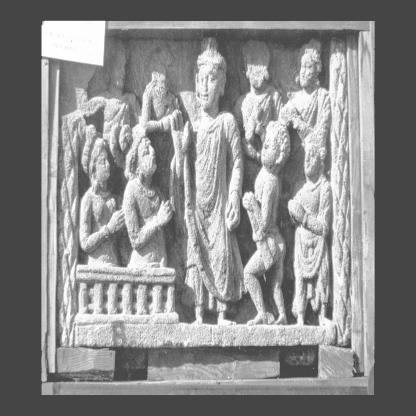buddha-standing: (184, 45, 244, 321)
